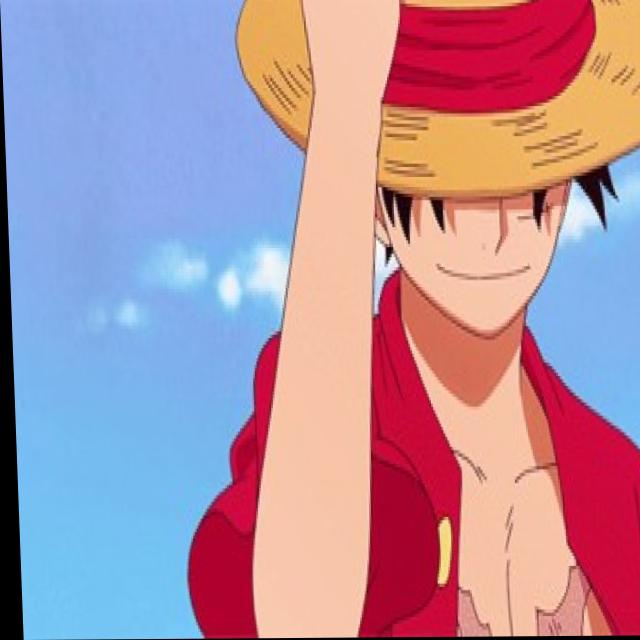Luffy: (256, 0, 629, 348)
